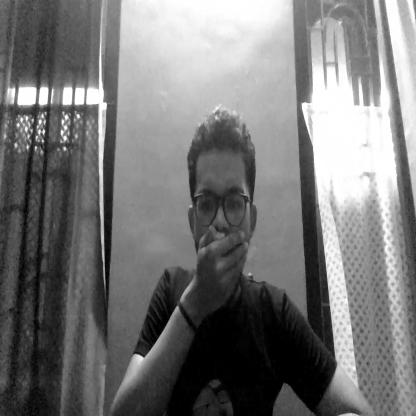Normal: (188, 90, 259, 291)
